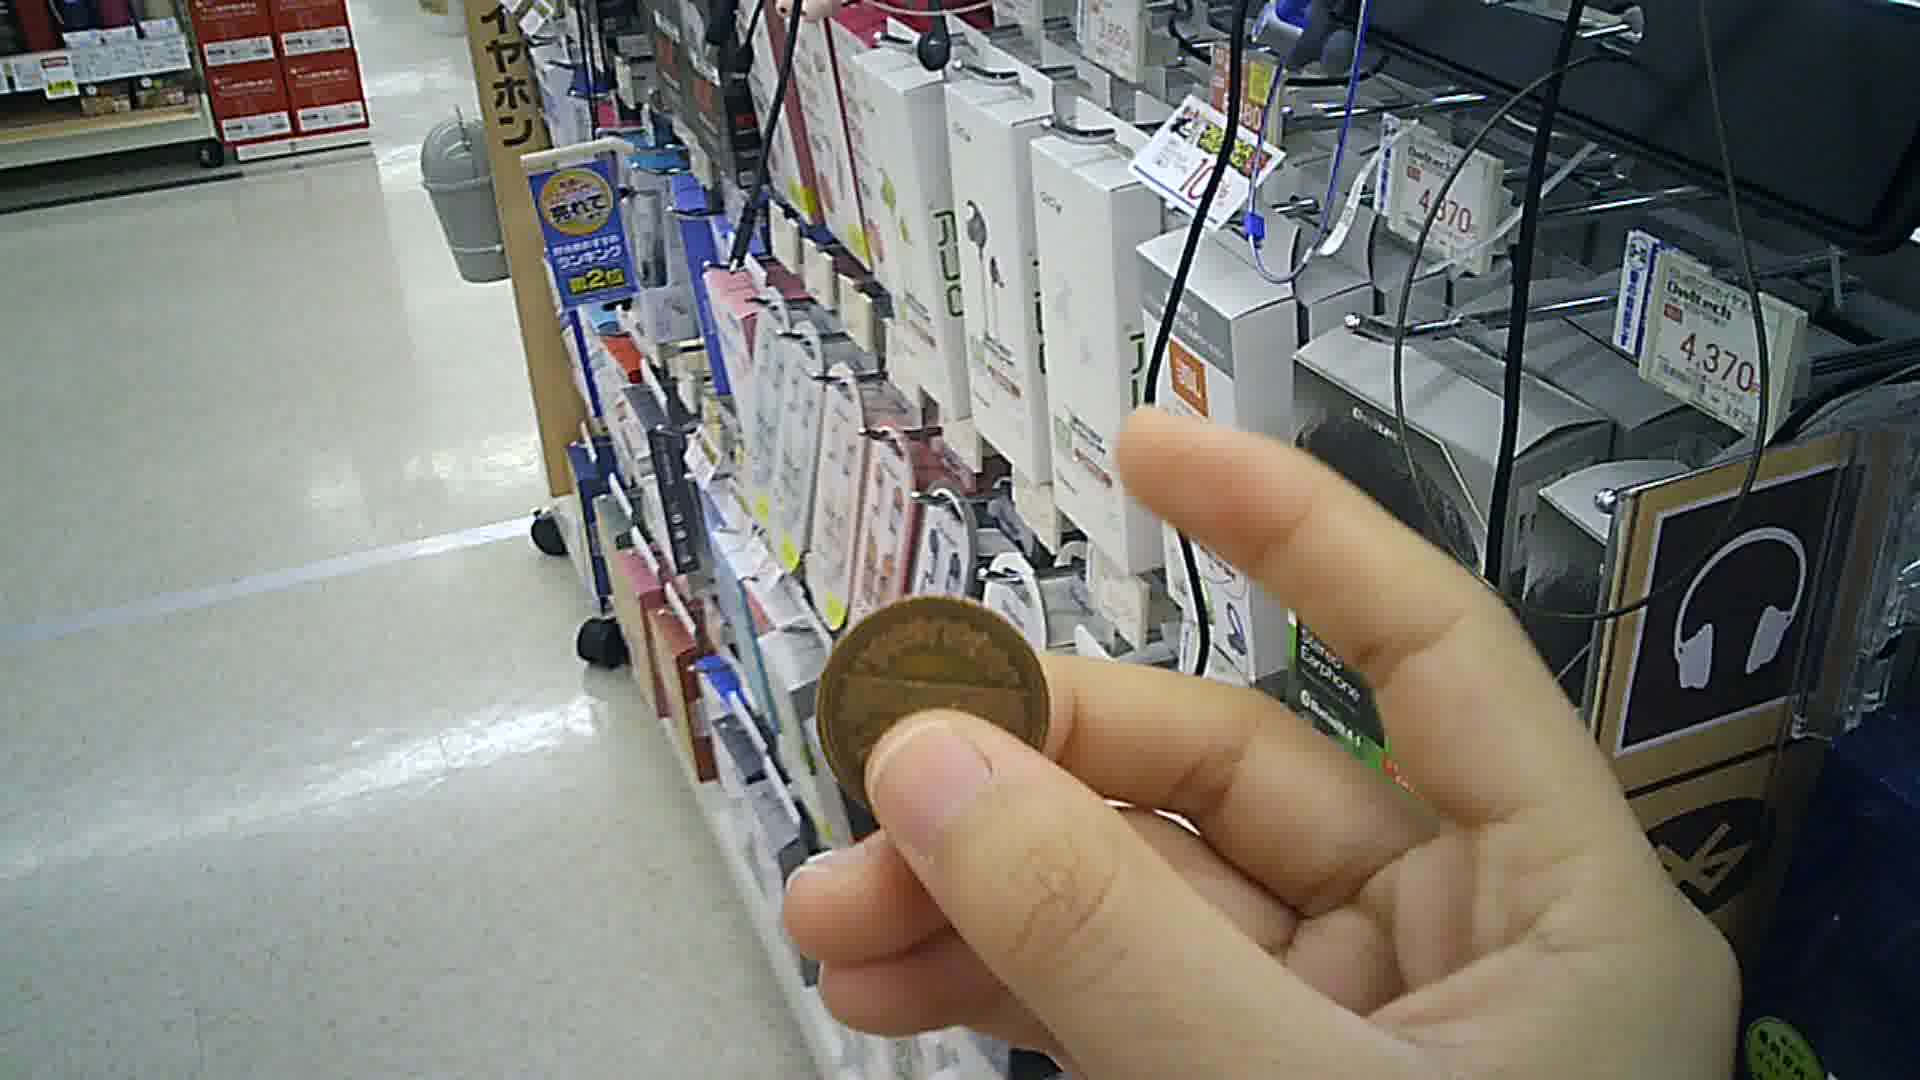10 Yen: (810, 591, 1054, 811)
